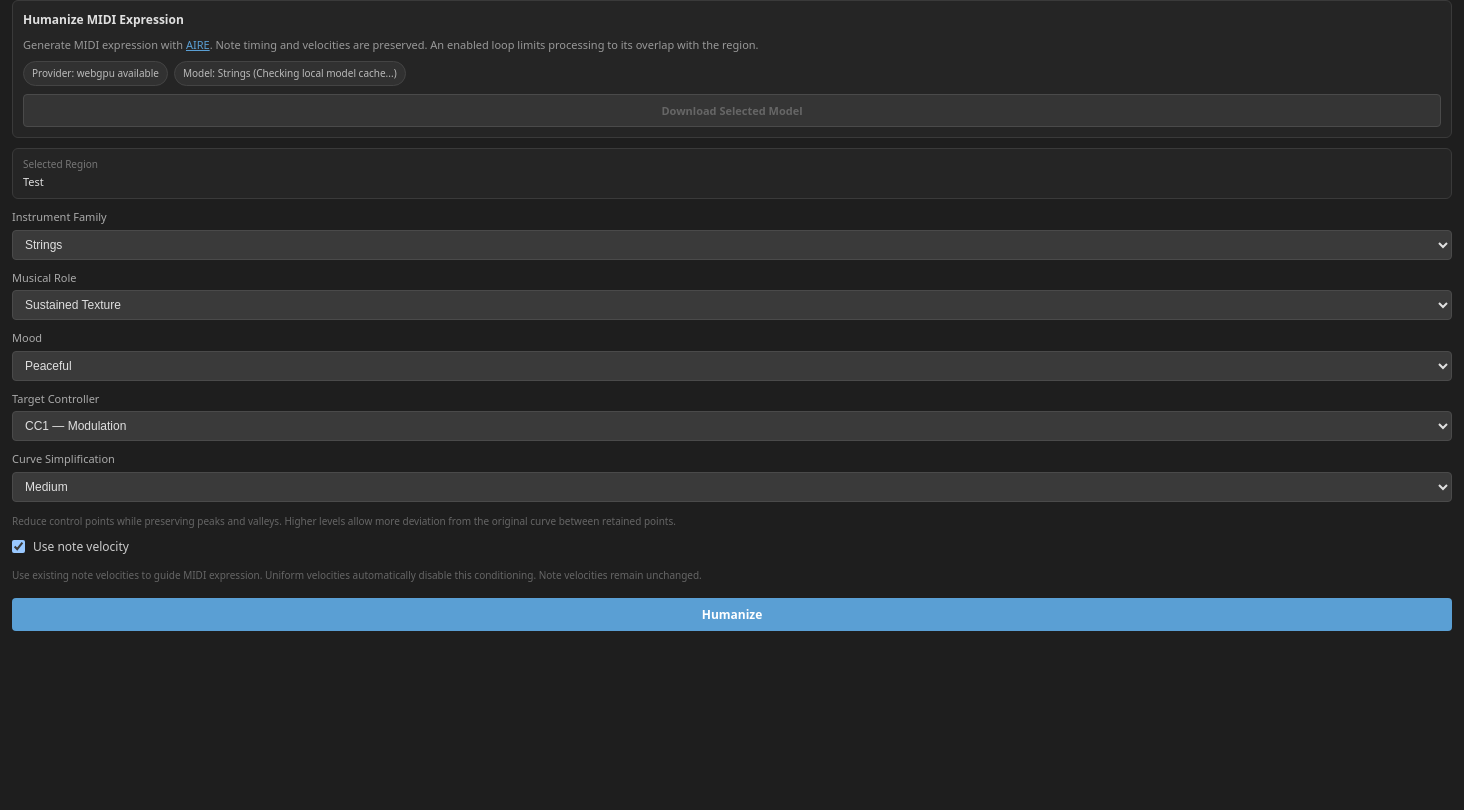
it: Humanize tab › rejects stale input and allows retry after failure
Click the button "Humanize". click: {"x": 732, "y": 614}
box: [12,598,1452,631]
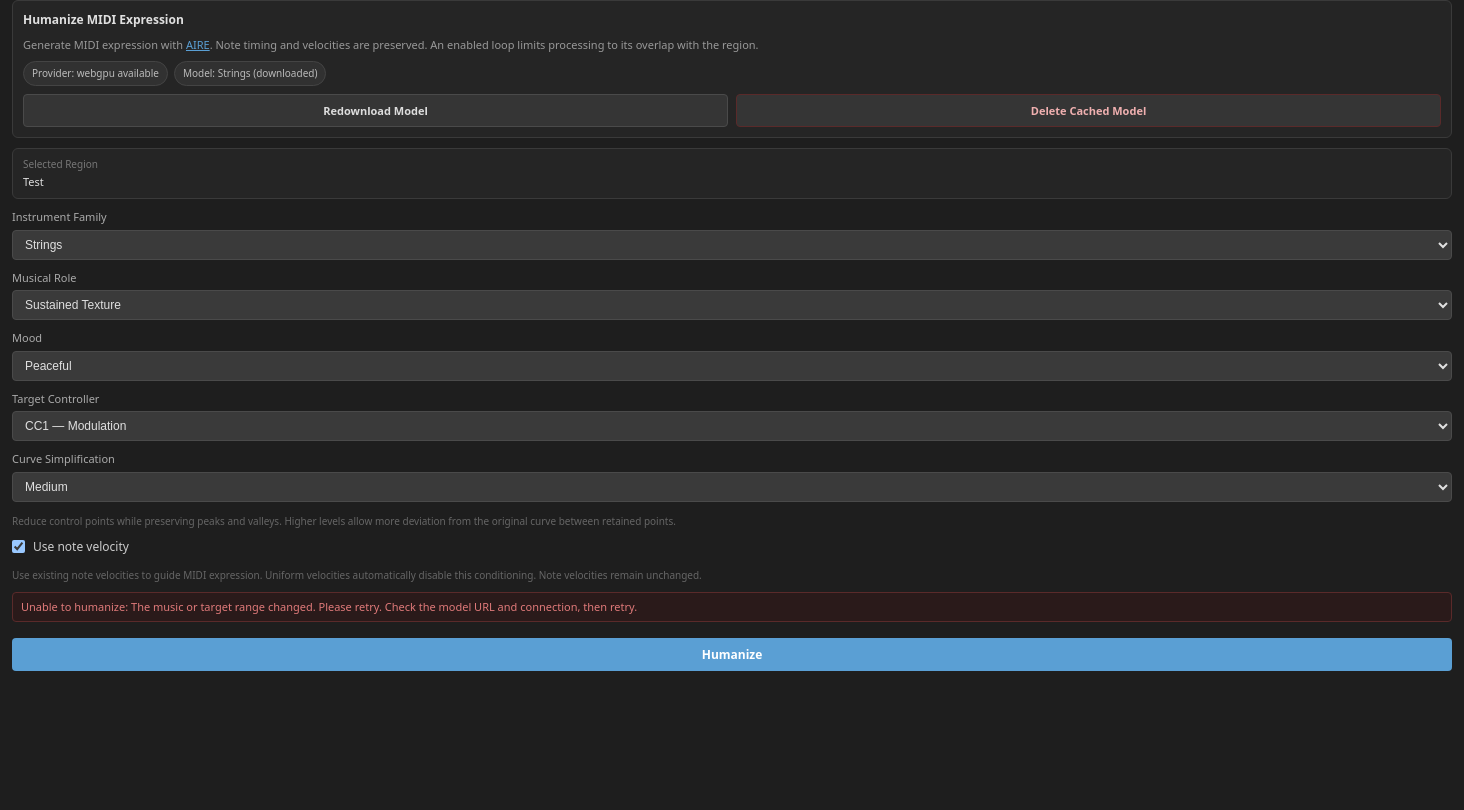
Expected: the button "Humanize" is enabled, [12,638,1452,671]
Result: the message shows "changed" at [21,599,637,614]
